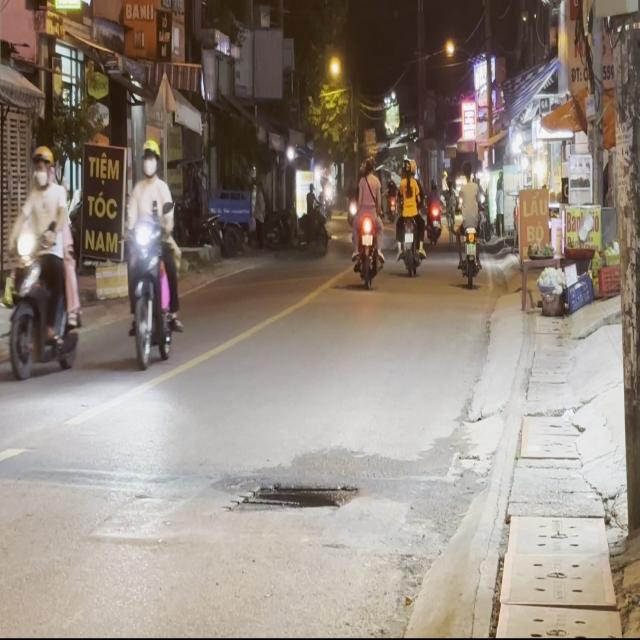helmet: (29, 144, 53, 188), (140, 137, 159, 176)
licenseplate: (3, 142, 83, 384), (121, 136, 183, 368)
